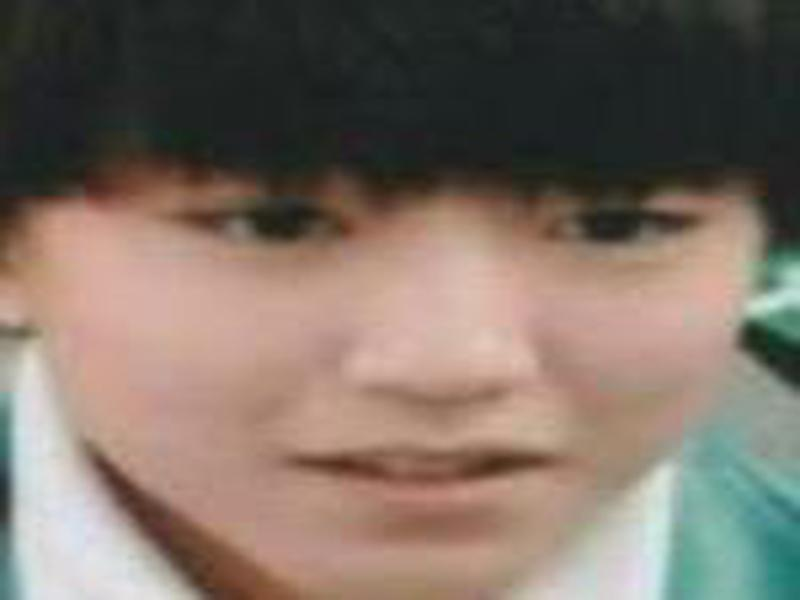without_mask: (16, 127, 744, 591)
